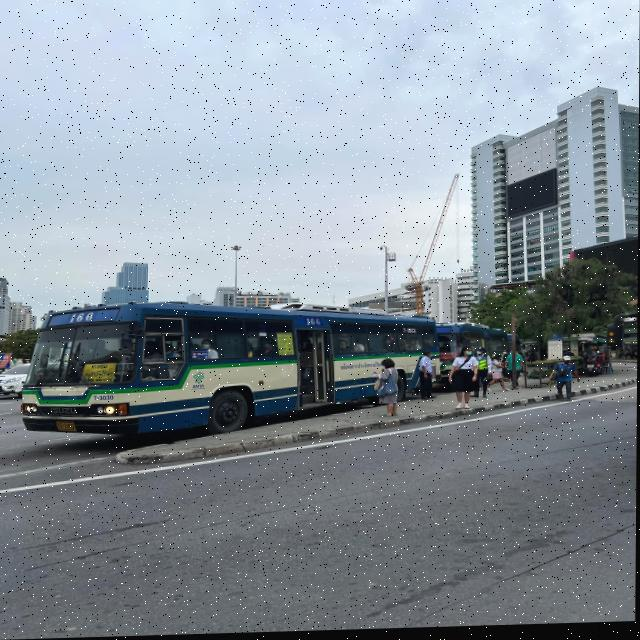BMTA-bus: (17, 292, 444, 438)
Bus-Line-Number: (66, 311, 94, 324)
Destination-Sign-Normal-Expressway: (81, 363, 116, 385)
